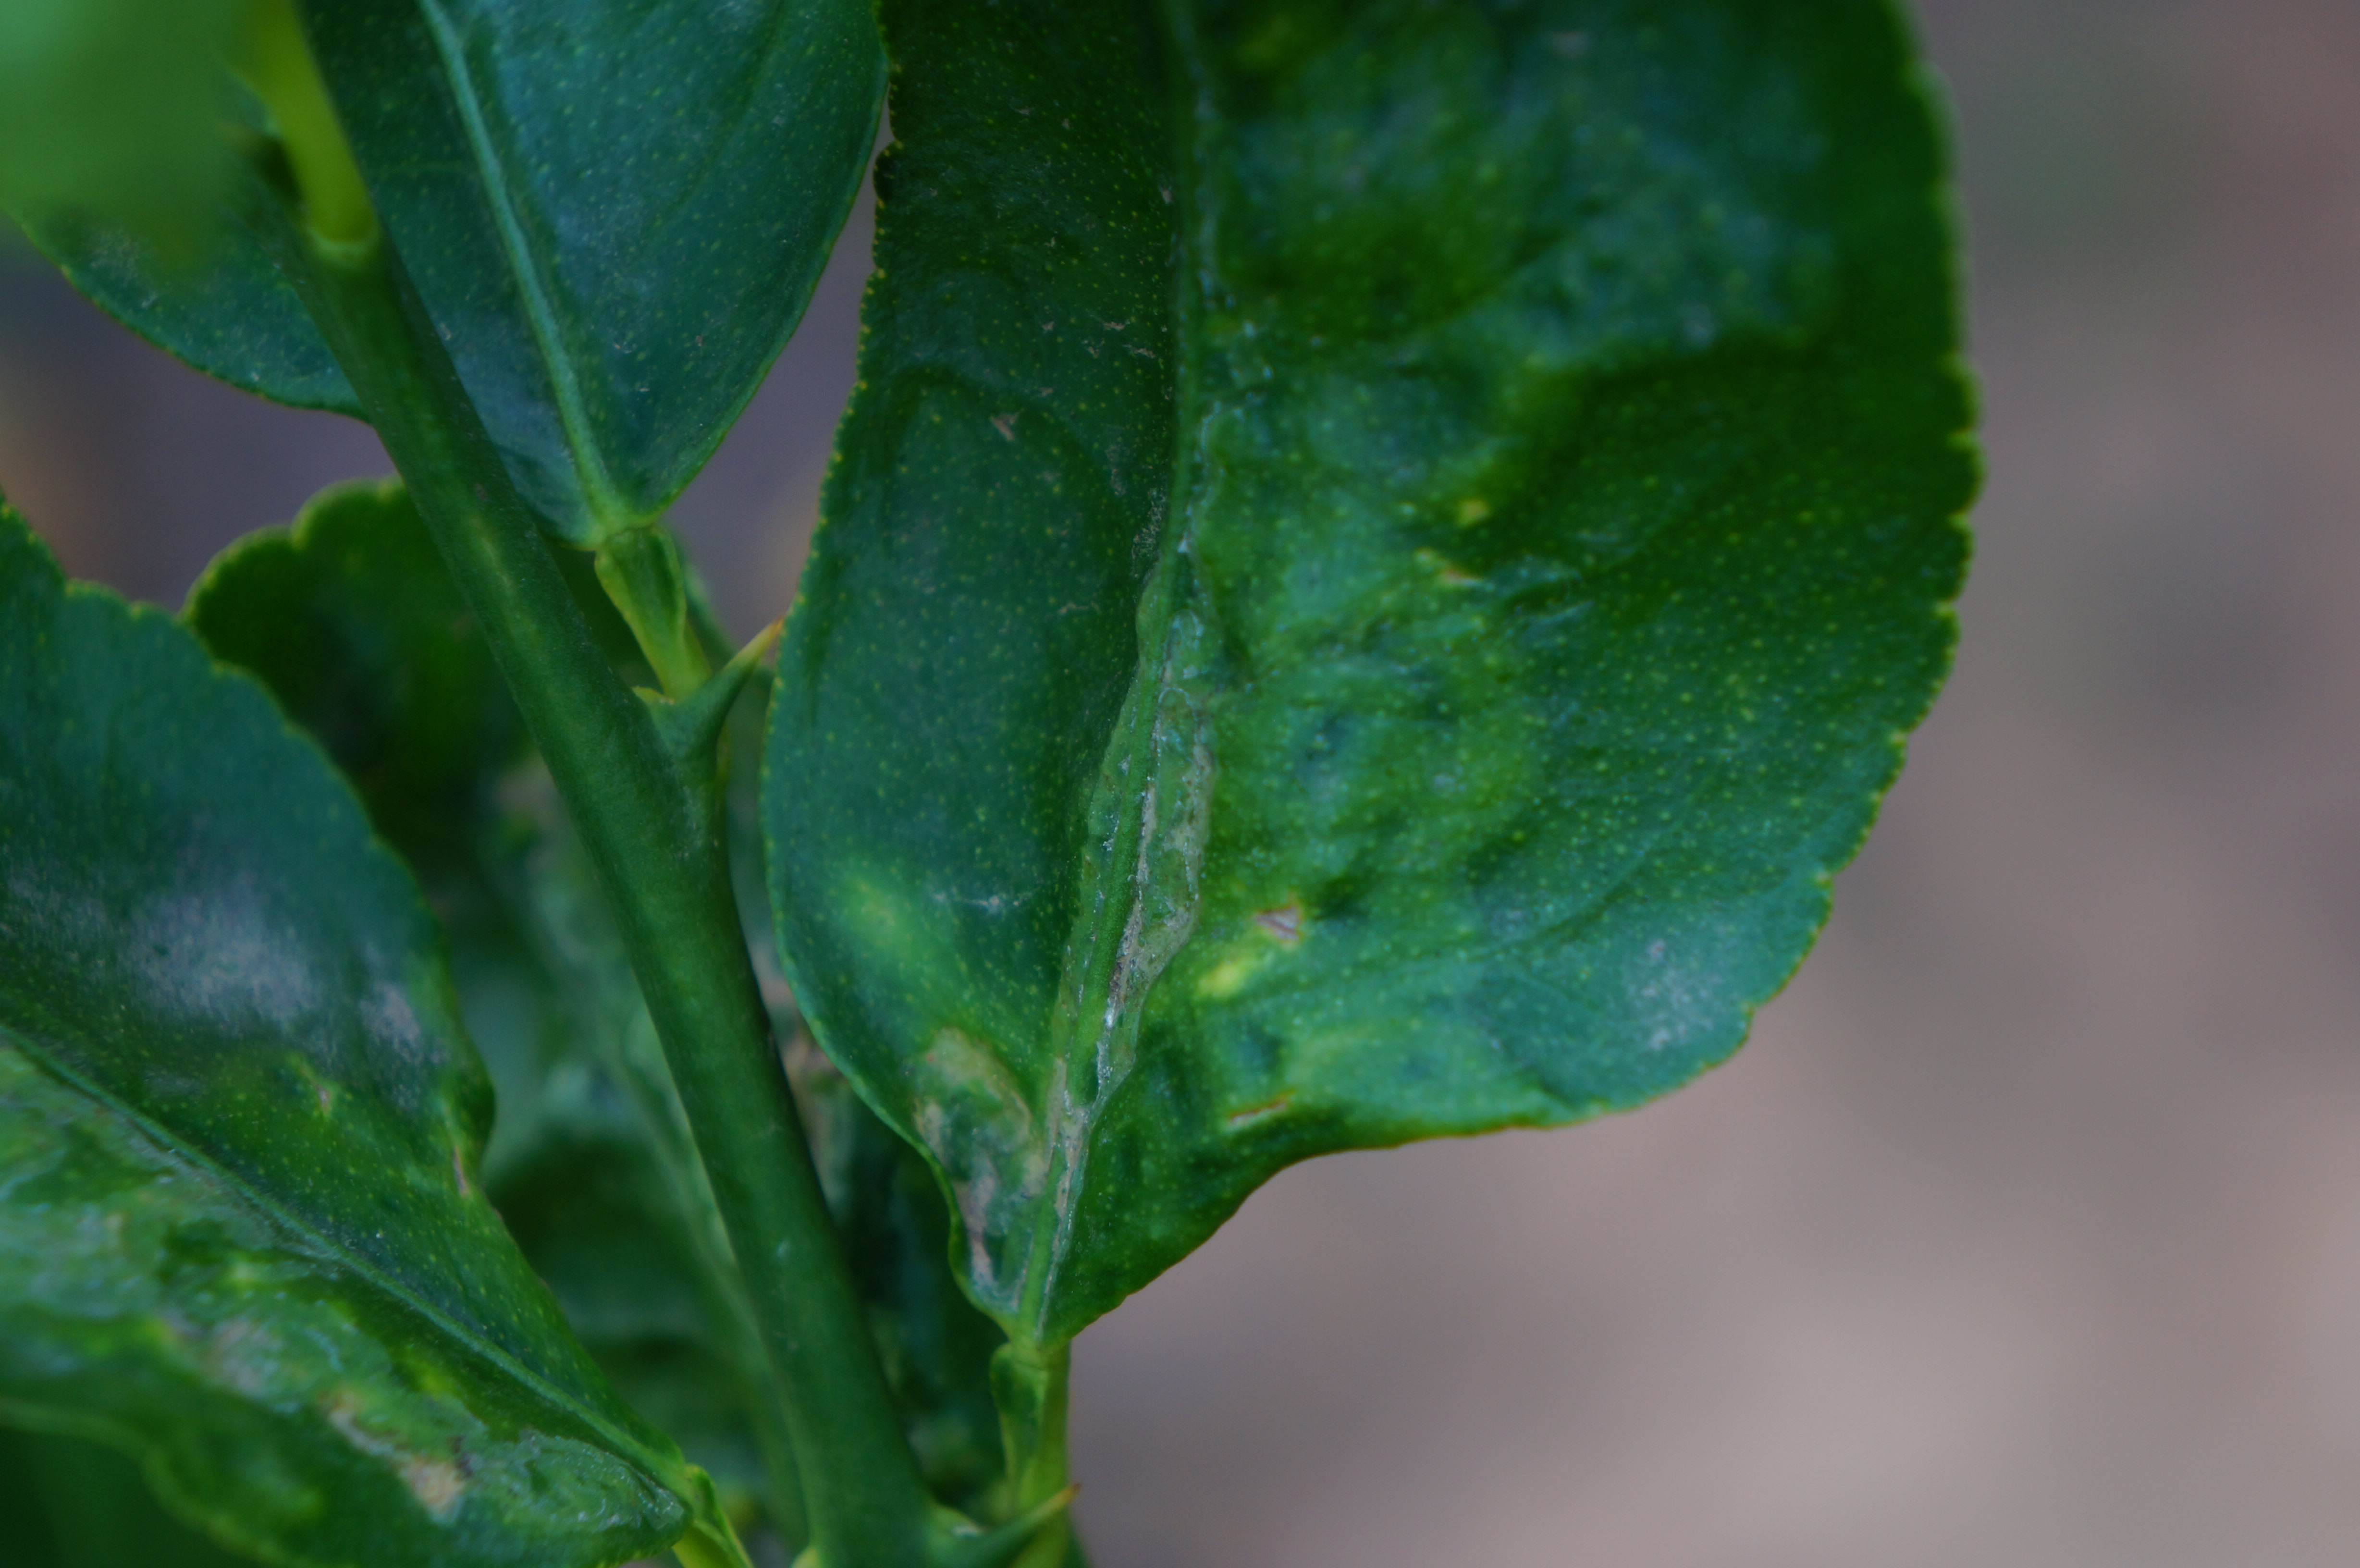damage: (931, 462, 1288, 1351)
